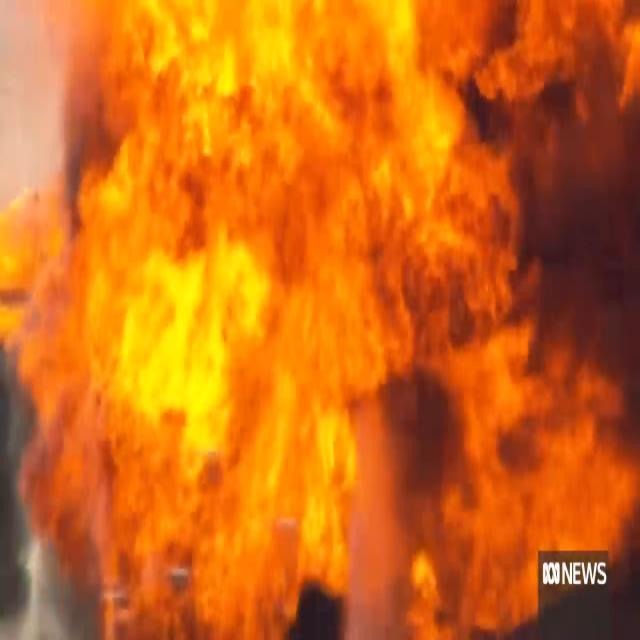fire: (363, 5, 640, 548), (21, 228, 307, 622), (66, 0, 362, 276), (306, 278, 522, 588)
